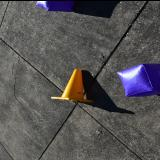cone: (51, 68, 94, 102)
cube: (117, 62, 160, 96), (36, 0, 76, 11)
